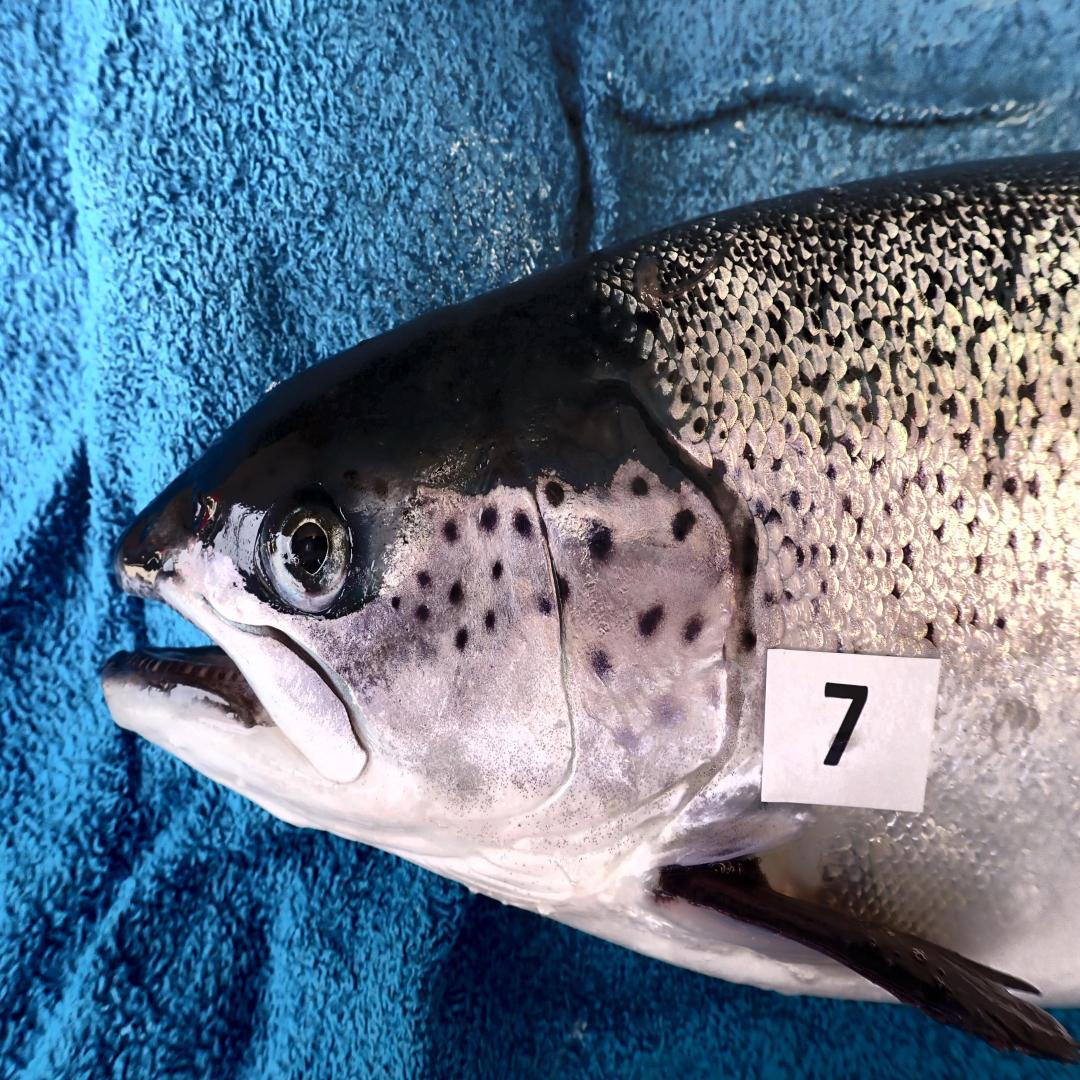spot: (586, 520, 614, 560), (741, 520, 758, 576), (637, 605, 664, 638), (671, 509, 696, 540), (683, 615, 704, 649), (591, 650, 612, 678), (513, 509, 532, 537), (544, 481, 565, 506), (557, 572, 572, 607), (414, 568, 435, 592), (479, 506, 498, 532), (448, 580, 464, 607), (631, 475, 648, 498), (537, 593, 552, 618), (741, 628, 756, 652), (443, 520, 458, 543), (484, 608, 497, 634), (415, 604, 431, 625), (456, 627, 468, 650), (491, 560, 502, 579), (392, 596, 401, 610)
